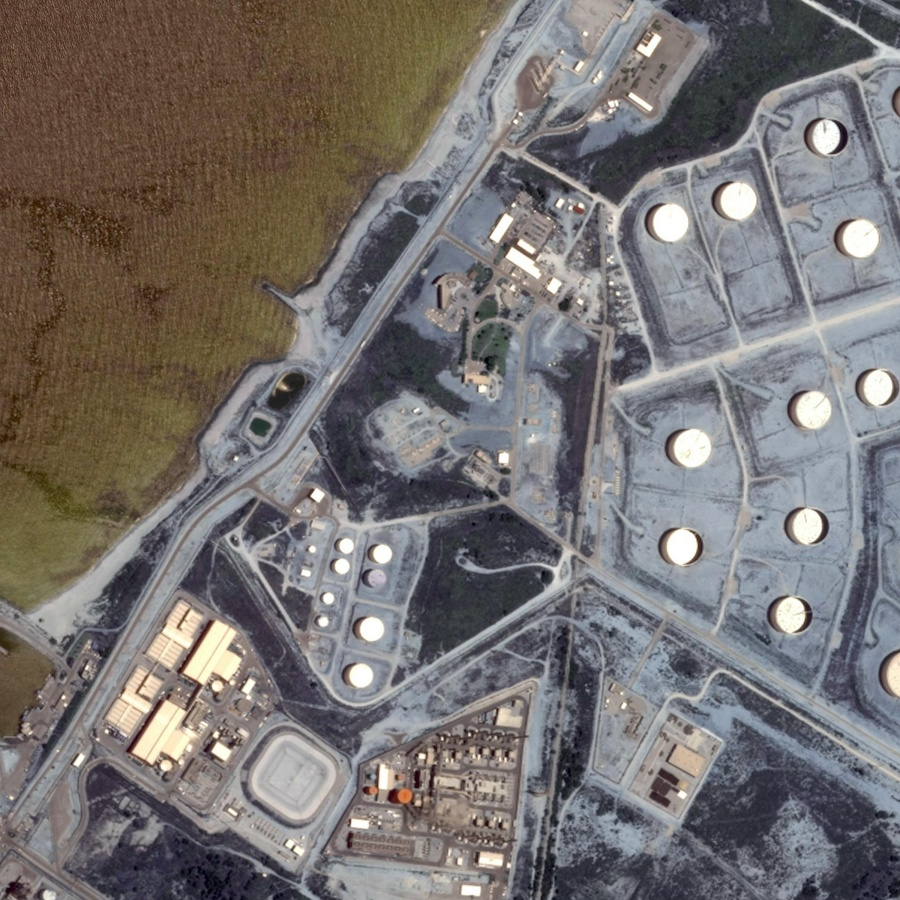PowerPlant: (232, 487, 465, 700)
